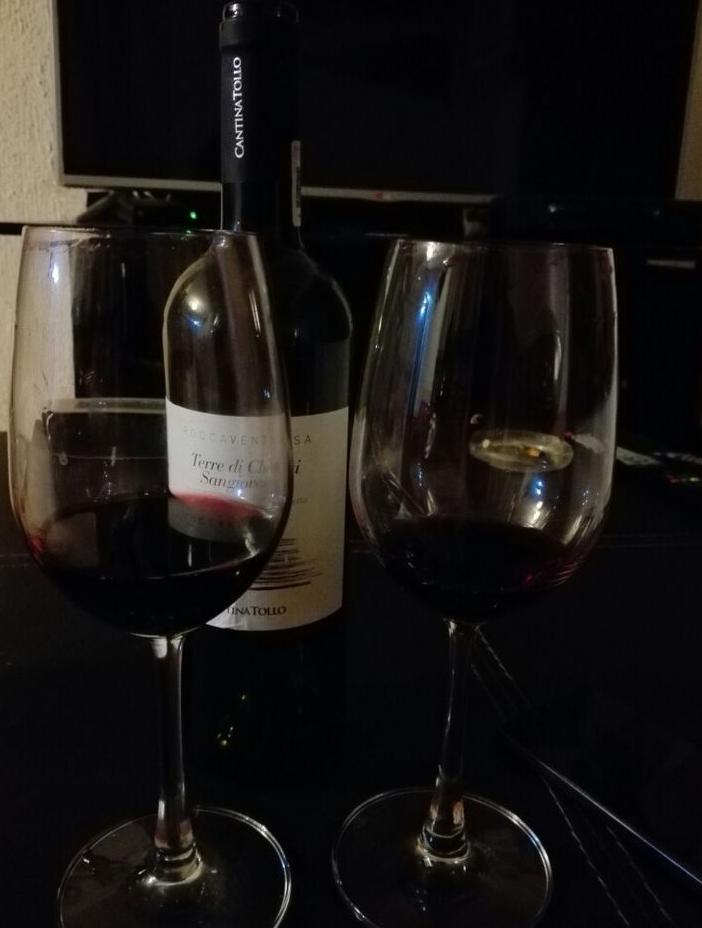wine bottle: (163, 0, 351, 784)
wine label: (166, 397, 349, 632)
